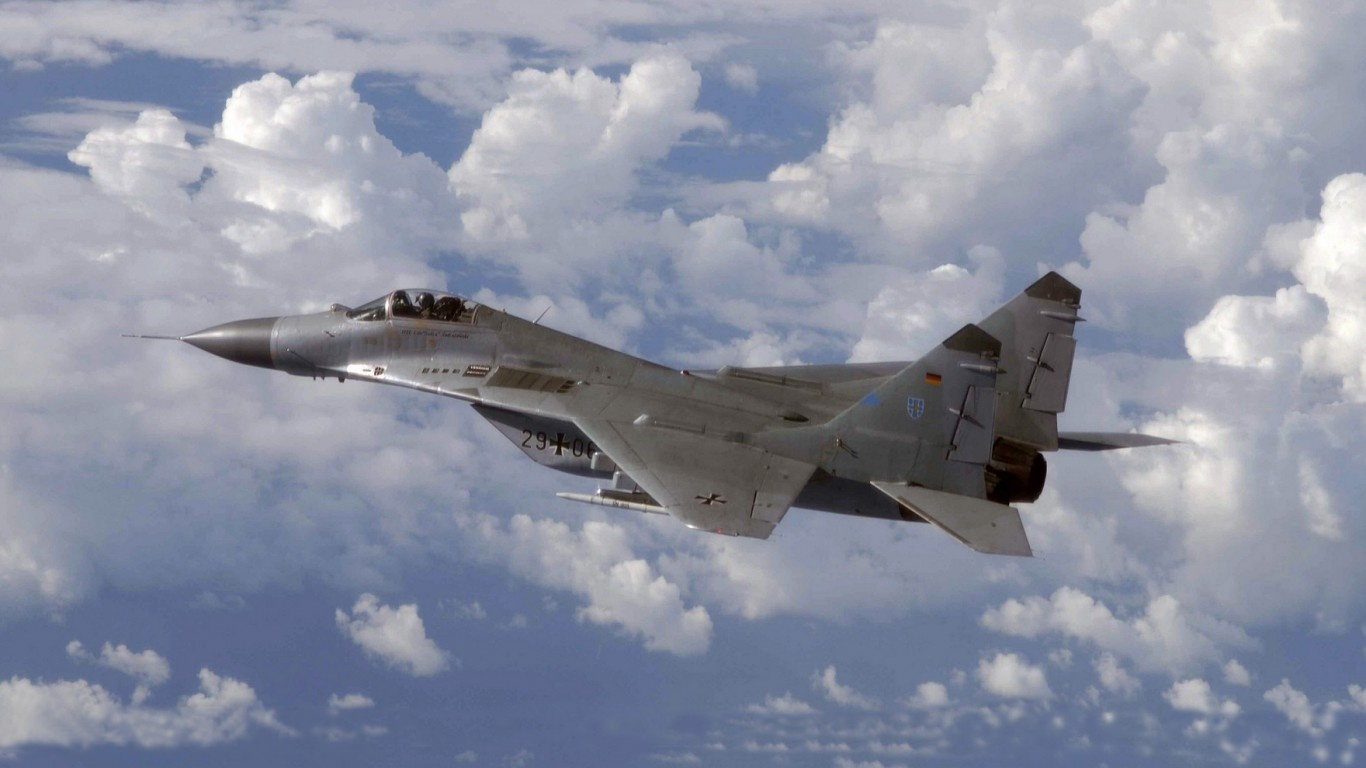airplane: (133, 269, 1187, 563)
